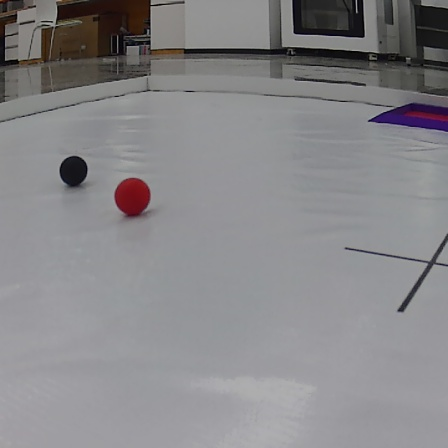black: (59, 155, 88, 187)
red: (113, 176, 151, 216)
red_aim: (366, 96, 448, 137)
